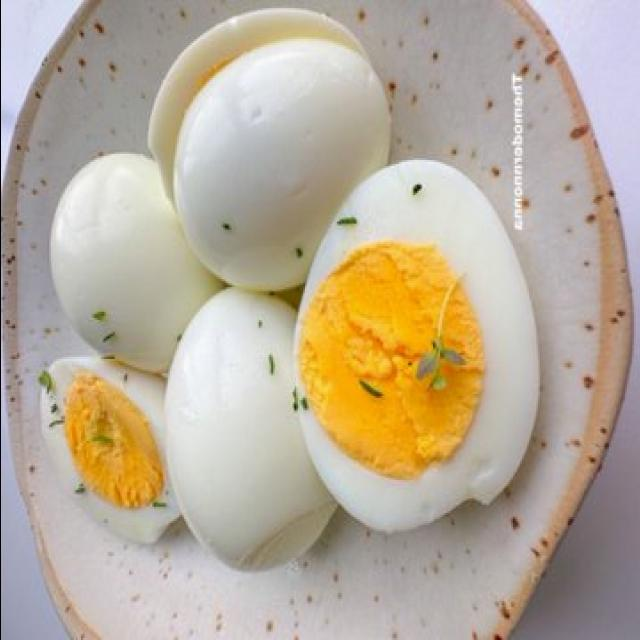telur rebus: (293, 156, 540, 548), (146, 4, 393, 297), (162, 285, 338, 574), (48, 152, 228, 382), (37, 355, 180, 544)
